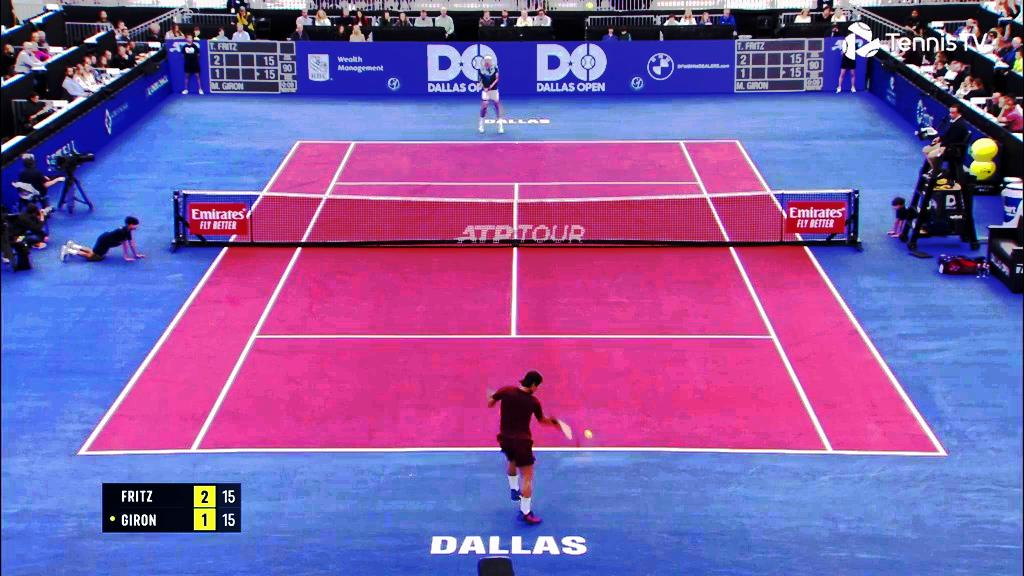tennis-court: (77, 140, 947, 455)
